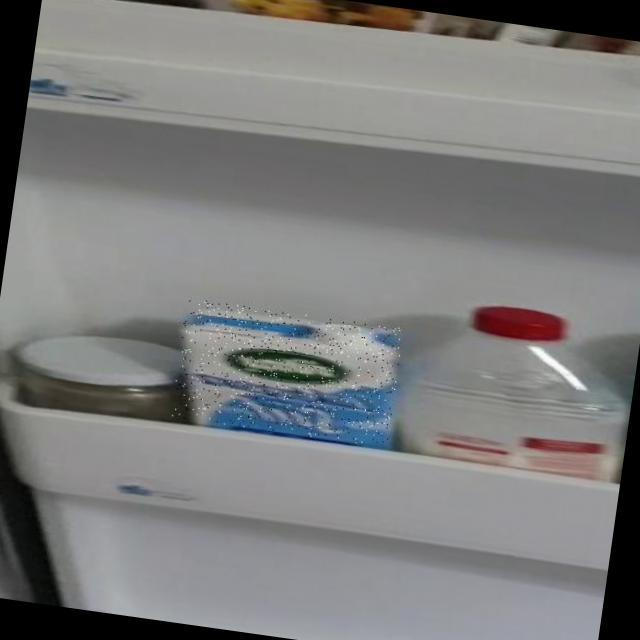milk: (171, 299, 404, 448)
